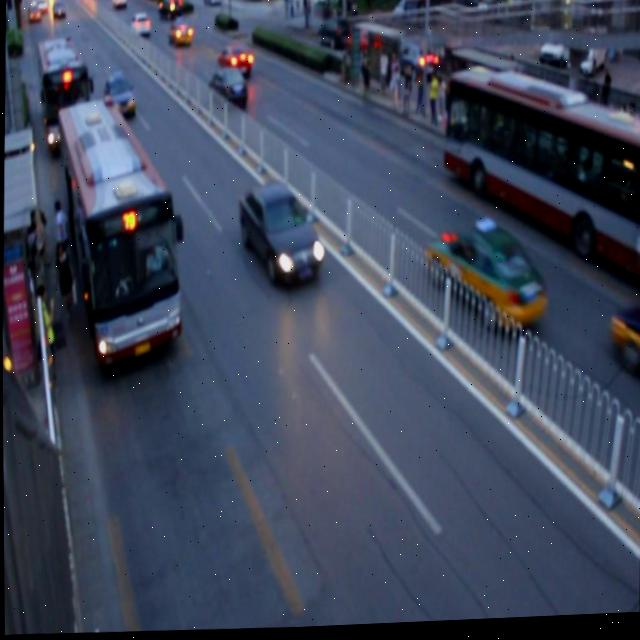car: (423, 222, 545, 341), (236, 184, 321, 287), (202, 67, 247, 113), (101, 72, 137, 121), (216, 43, 255, 82), (167, 18, 197, 52)
van: (437, 63, 640, 307), (51, 101, 183, 363), (36, 38, 91, 151)
